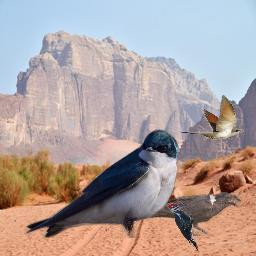Crow: (143, 191, 242, 237)
Cuckoo: (180, 95, 244, 139)
Swallow: (24, 129, 179, 238)
Woodpecker: (167, 203, 198, 251)
